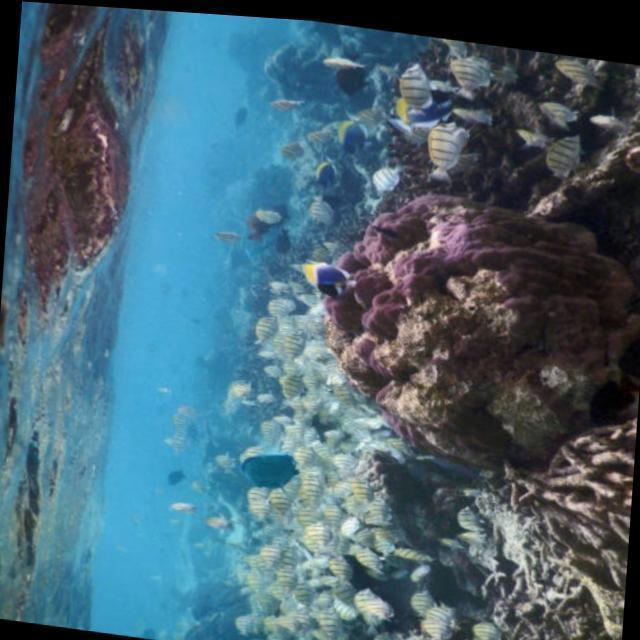Dead Coral: (339, 170, 640, 473), (485, 394, 637, 527), (447, 530, 626, 640)
